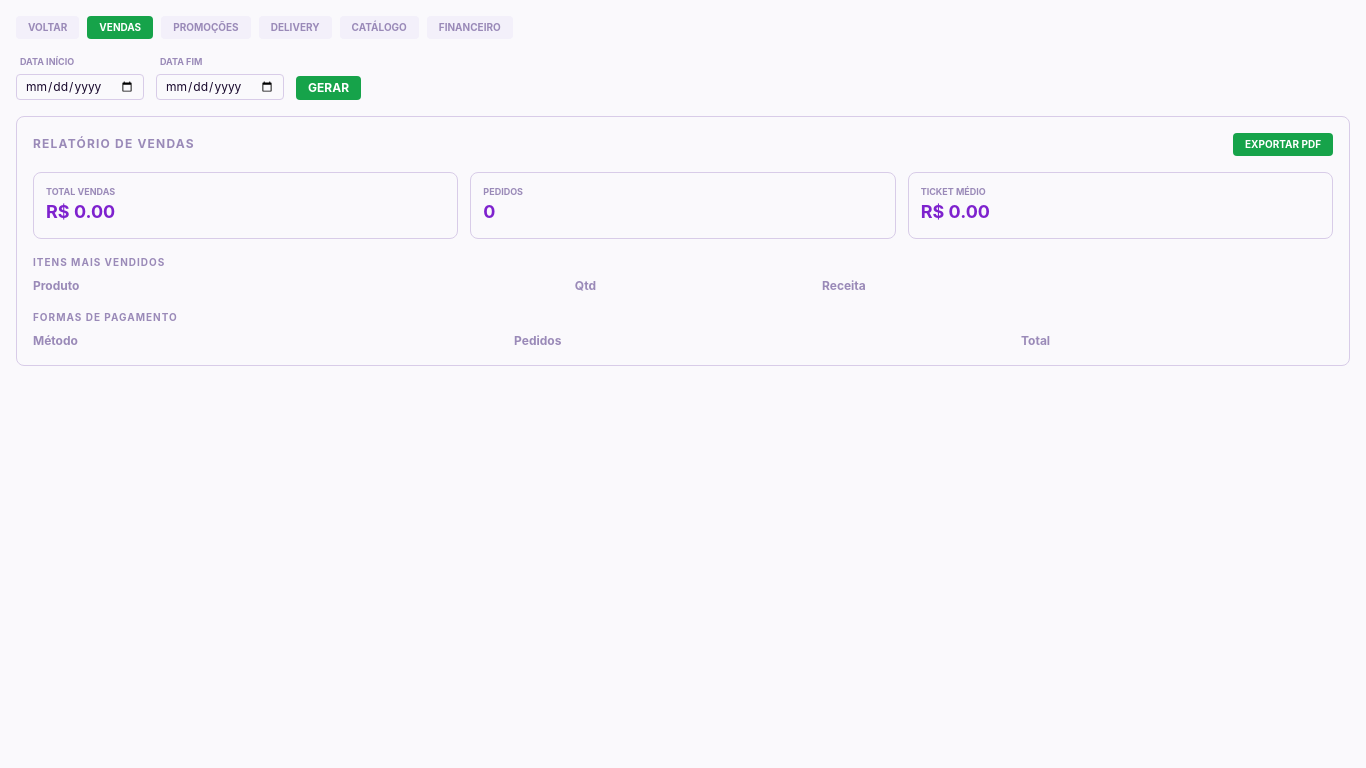
Test: ReportsScreen › shows Sales tab KPIs and top products table
Click the button "Vendas": (120, 28) x1=87 y1=16 x2=153 y2=39
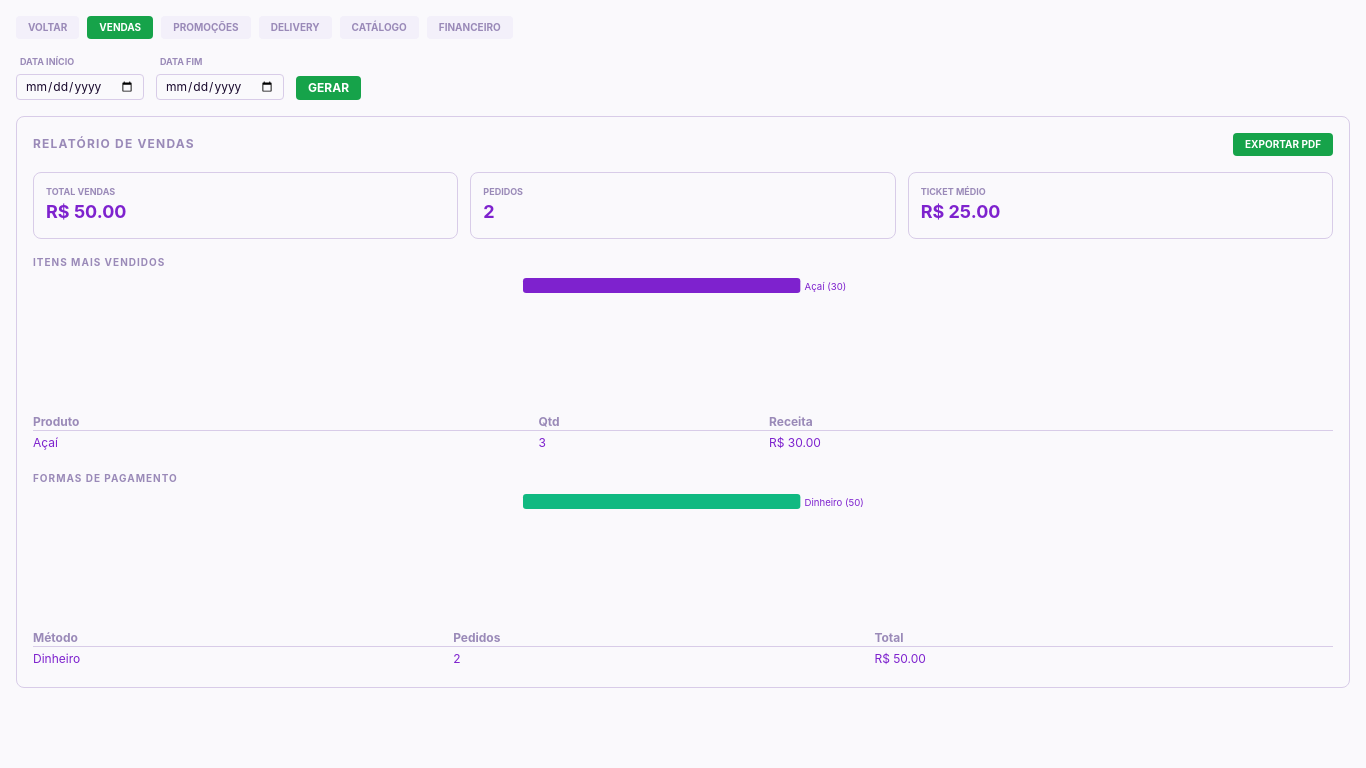
expect the text "Total Vendas" is shown: met, box x1=46 y1=186 x2=115 y2=196
expect the text "Açaí" is shown: met, box x1=33 y1=430 x2=538 y2=455
